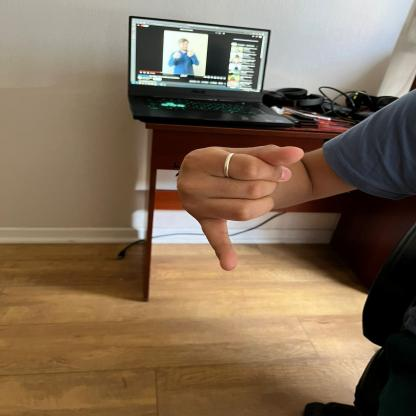Z: (175, 138, 305, 268)
